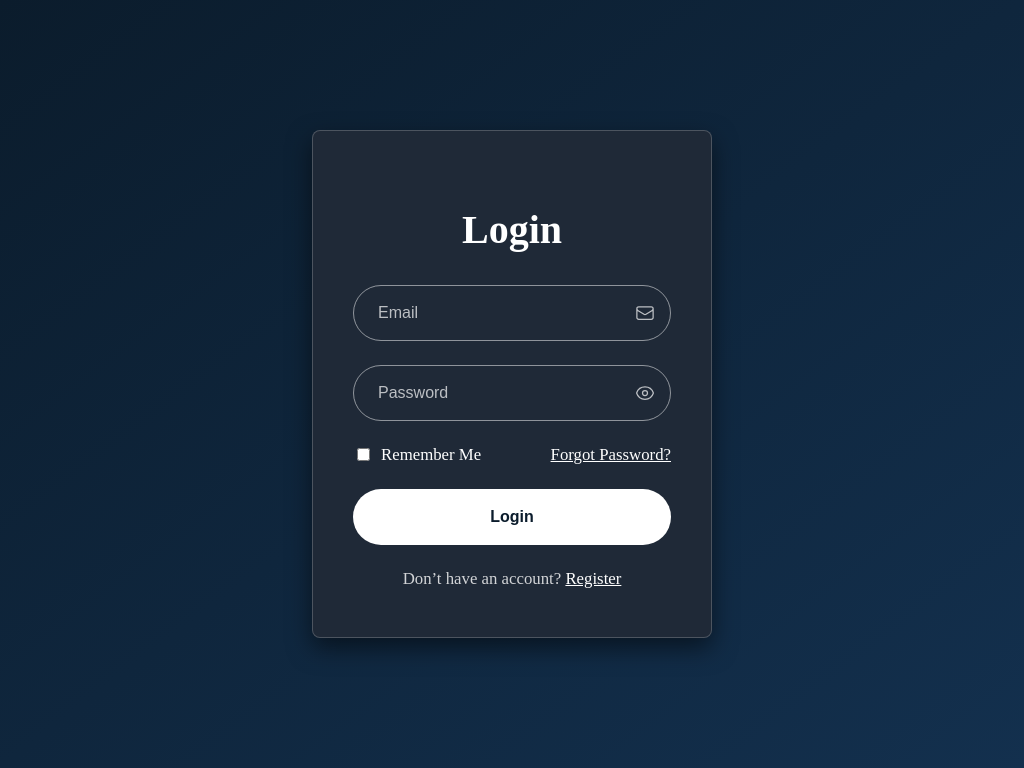
Scenario: LoginPage › toggles password visibility when eye icon is clicked
This screenshot has width=1024, height=768.
Type "password123" into the password field with placeholder "Password" at (512, 393), box [353,365,671,421]
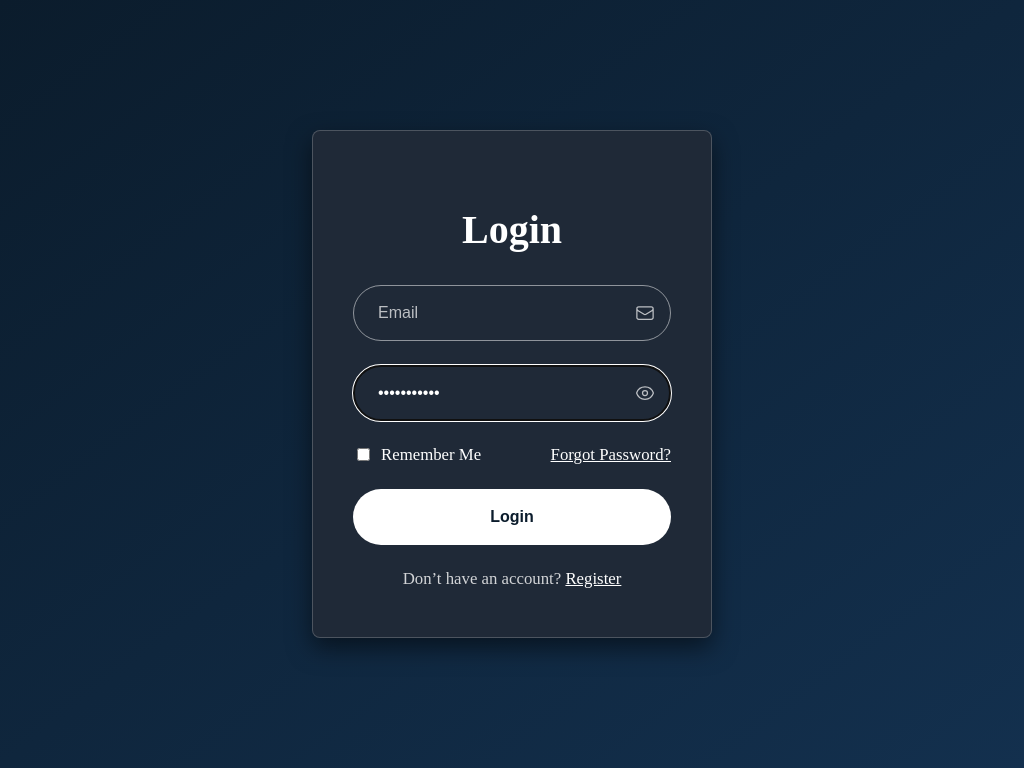
Click the 2nd icon with class "fa-icon" at (645, 393), box [635,383,655,403]
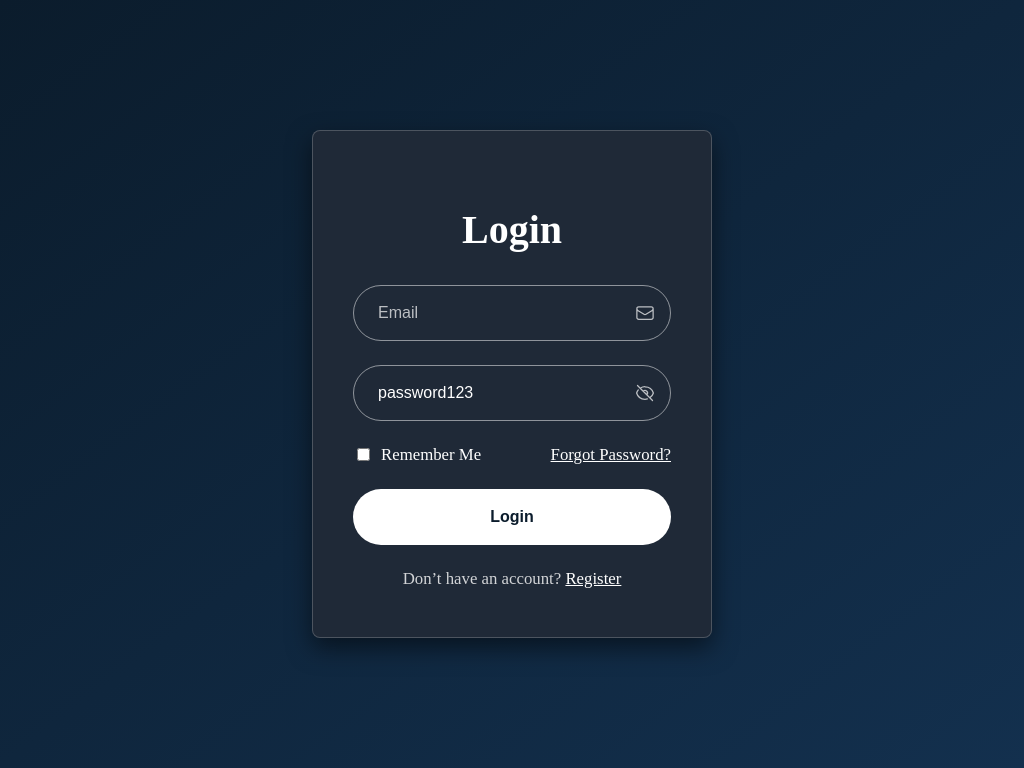
Expected: the field with placeholder "Password" shows its text, [353,365,671,421]
Click the 2nd icon with class "fa-icon" at (645, 393), box [635,383,655,403]
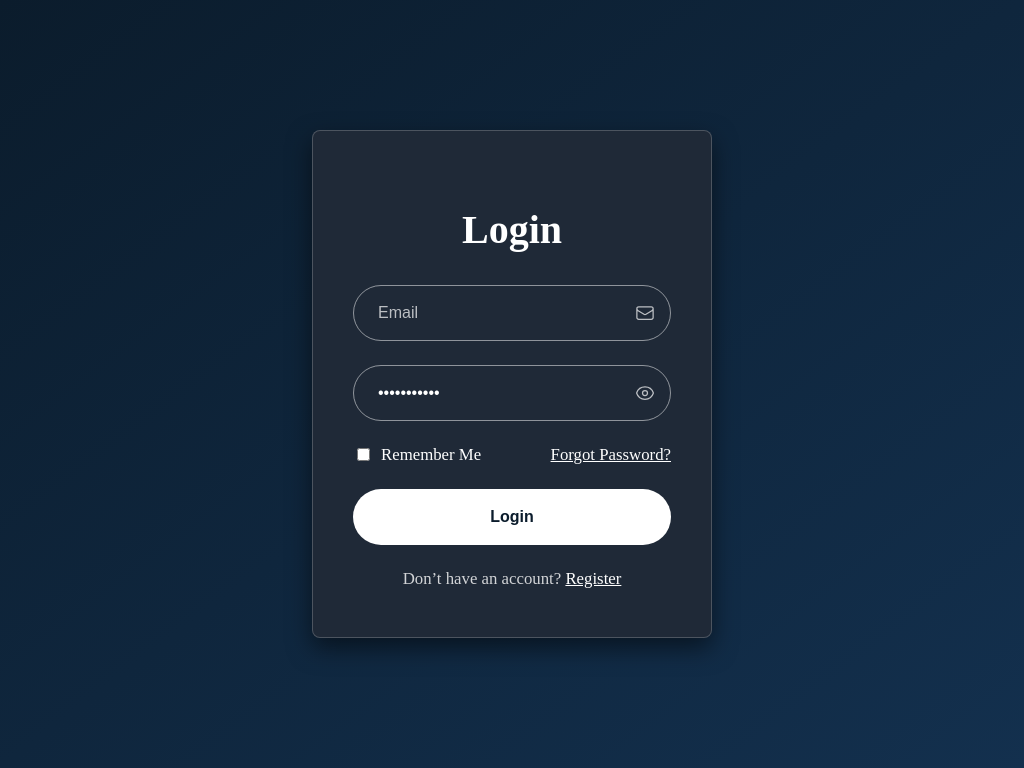
Expected: the password field with placeholder "Password" hides its text, [353,365,671,421]
